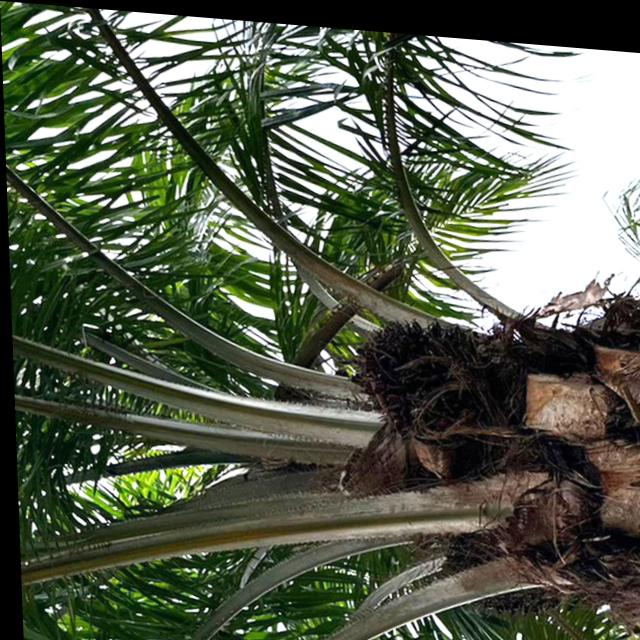ripe: (335, 295, 470, 432)
